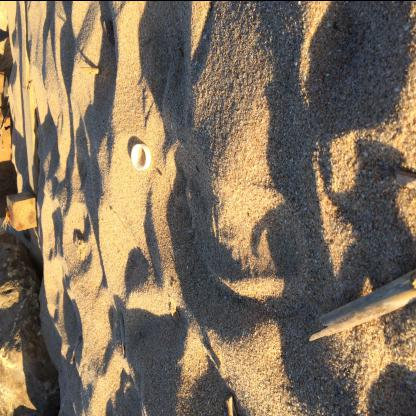plastik: (130, 141, 152, 171)
